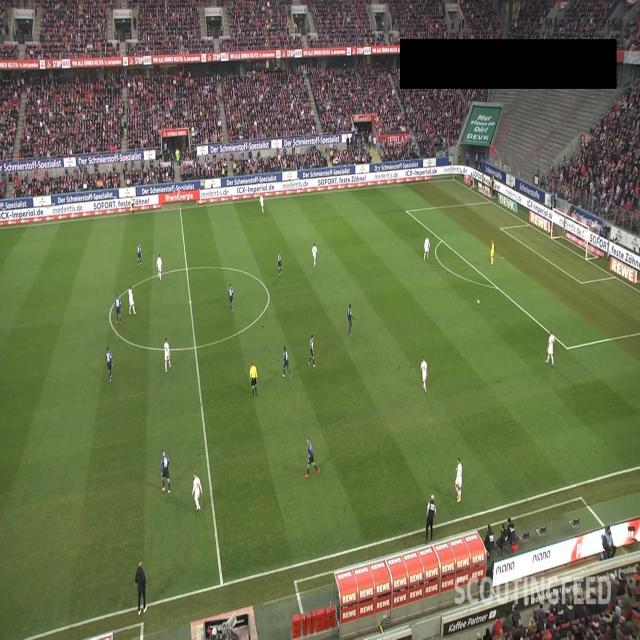ball: (477, 298, 480, 304)
